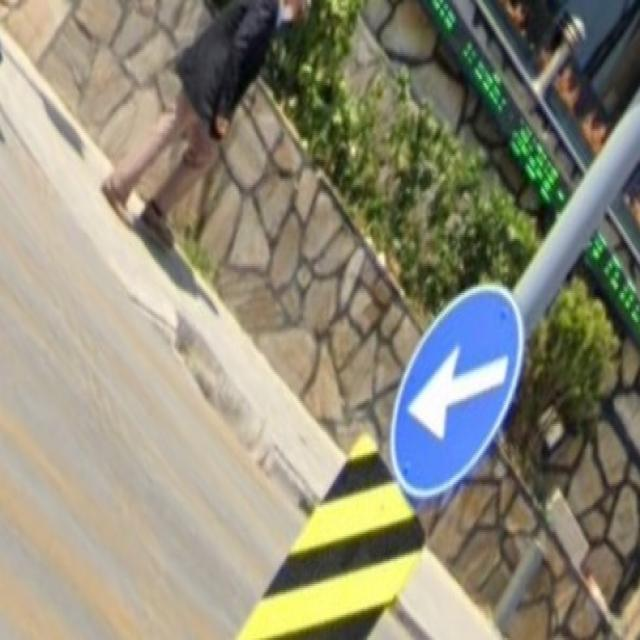Turn Left: (388, 293, 525, 488)
